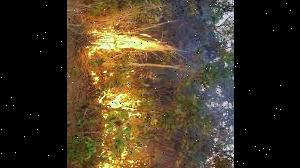fire: (74, 10, 178, 150)
